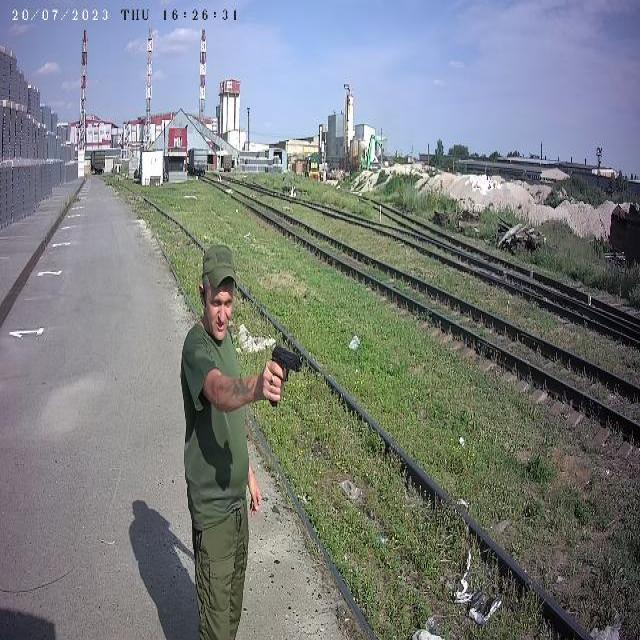pistol: (266, 346, 306, 406)
